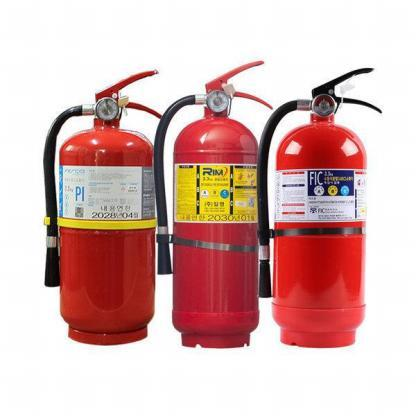Fire Extinguisher: (38, 59, 162, 351), (270, 68, 388, 353), (168, 53, 264, 356)
